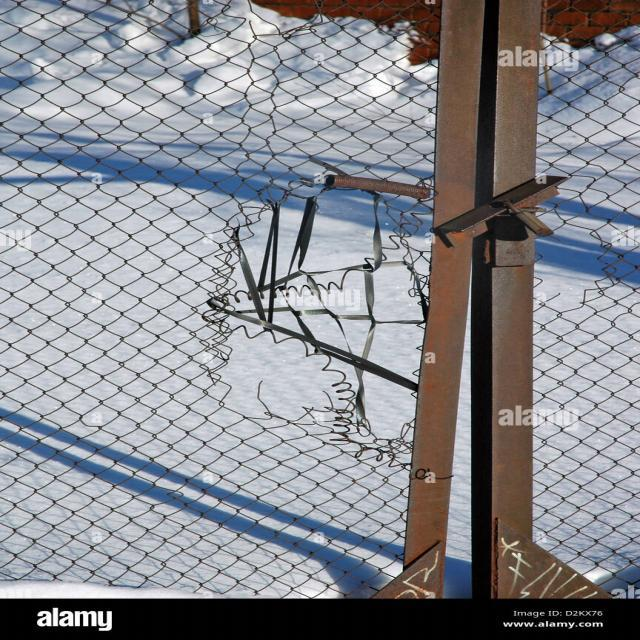fence line: (210, 181, 441, 475)
